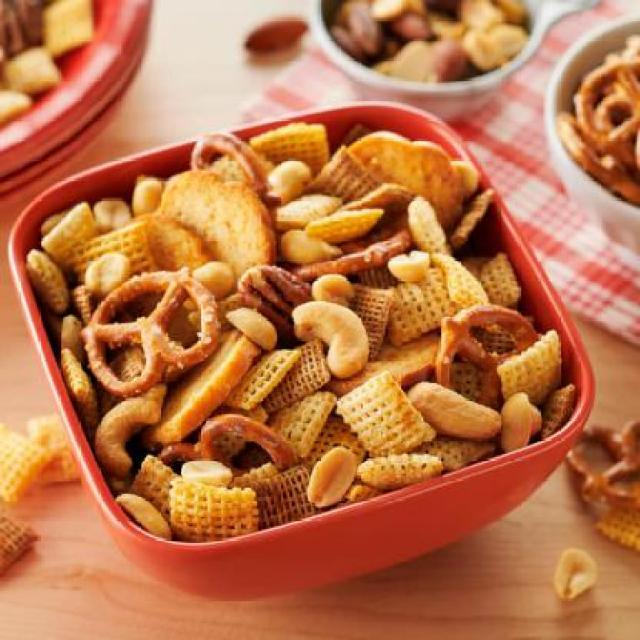Salatini packaged: (53, 110, 575, 527)
